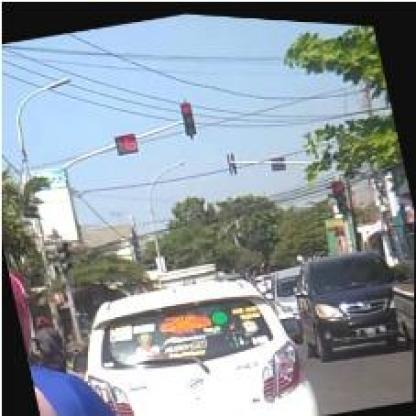red: (178, 95, 196, 132), (333, 176, 349, 209)
